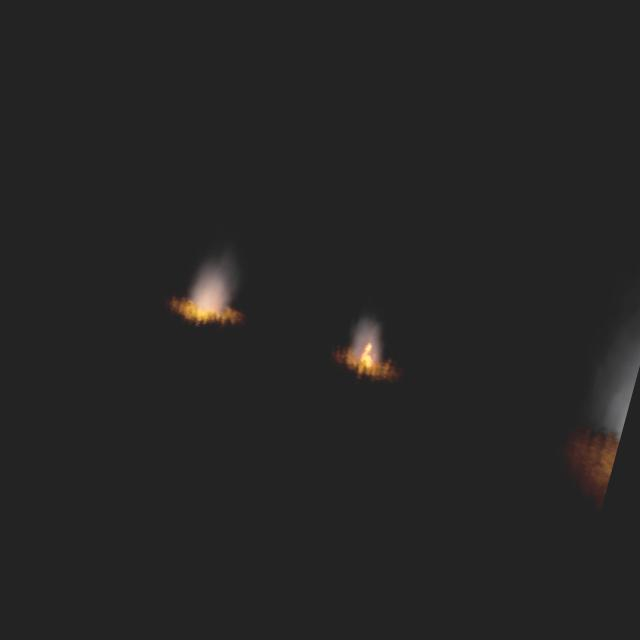fire: (355, 338, 380, 372)
smoke: (186, 260, 238, 316), (349, 318, 388, 366)
